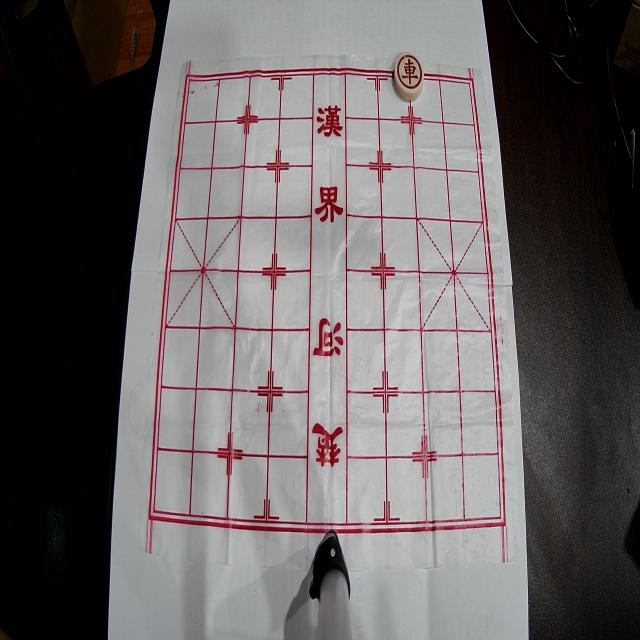red-chariot: (394, 52, 424, 101)
